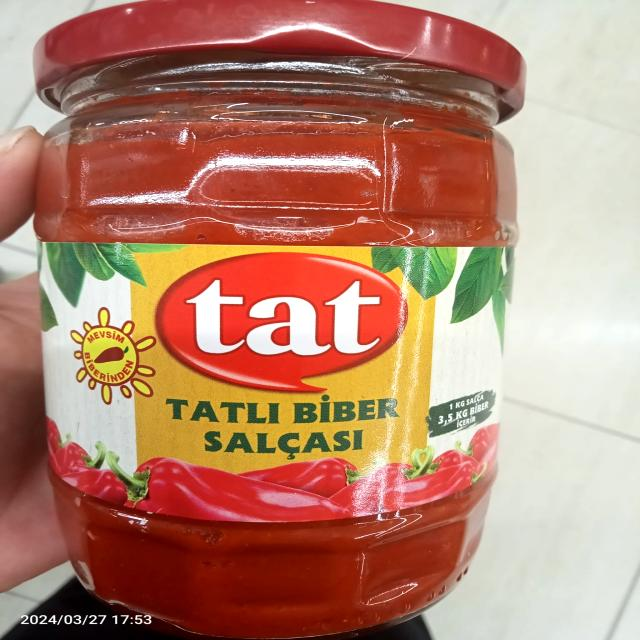tomato paste: (29, 22, 524, 640)
